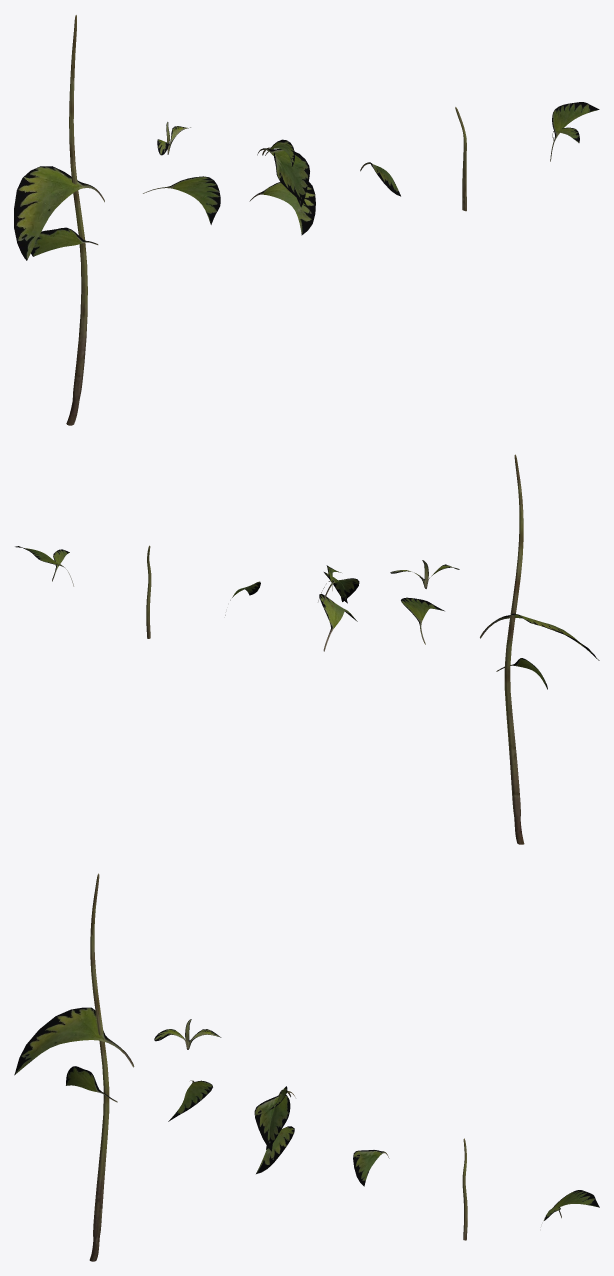
File: nettle_plant.glb
3 renders of one model, top to bottom at view 1: azimuth 30°, elevation 25°; view 2: azimuth 150°, elevation 25°; view 3: azimuth 330°, elevation 25°, orthographic. The views are drawn at different scales.
Parts seen in each view (by area): view 1: nettle_plant_tall_a_LOD0, nettle_plant_medium_a_LOD0, nettle_plant_tall_b_LOD0, nettle_plant_small_b_LOD0; view 2: nettle_plant_tall_a_LOD0, nettle_plant_medium_a_LOD0, nettle_plant_tall_b_LOD0; view 3: nettle_plant_tall_a_LOD0, nettle_plant_medium_a_LOD0, nettle_plant_tall_b_LOD0, nettle_plant_medium_b_LOD0, nettle_plant_small_b_LOD0.
Boxes of the visible parts, x1,y1,x2,y2 form: nettle_plant_tall_a_LOD0: (14, 15, 104, 425); nettle_plant_medium_a_LOD0: (249, 139, 315, 235); nettle_plant_tall_b_LOD0: (143, 122, 220, 224); nettle_plant_small_b_LOD0: (550, 102, 599, 161); nettle_plant_tall_a_LOD0: (480, 454, 599, 844); nettle_plant_medium_a_LOD0: (318, 565, 359, 651); nettle_plant_tall_b_LOD0: (390, 560, 459, 644); nettle_plant_tall_a_LOD0: (14, 873, 134, 1261); nettle_plant_medium_a_LOD0: (254, 1086, 295, 1173); nettle_plant_tall_b_LOD0: (154, 1019, 221, 1121); nettle_plant_medium_b_LOD0: (353, 1150, 389, 1186); nettle_plant_small_b_LOD0: (543, 1190, 599, 1220).
Bounding box in the file's own units: 1.23 × 0.8069 × 0.1644.
Materials: 1 (1 with a texture image).
